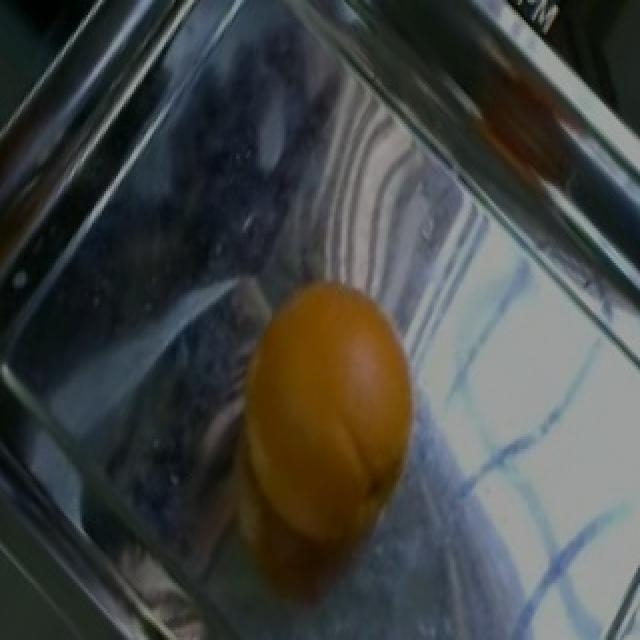Fruit: (210, 253, 440, 588)
